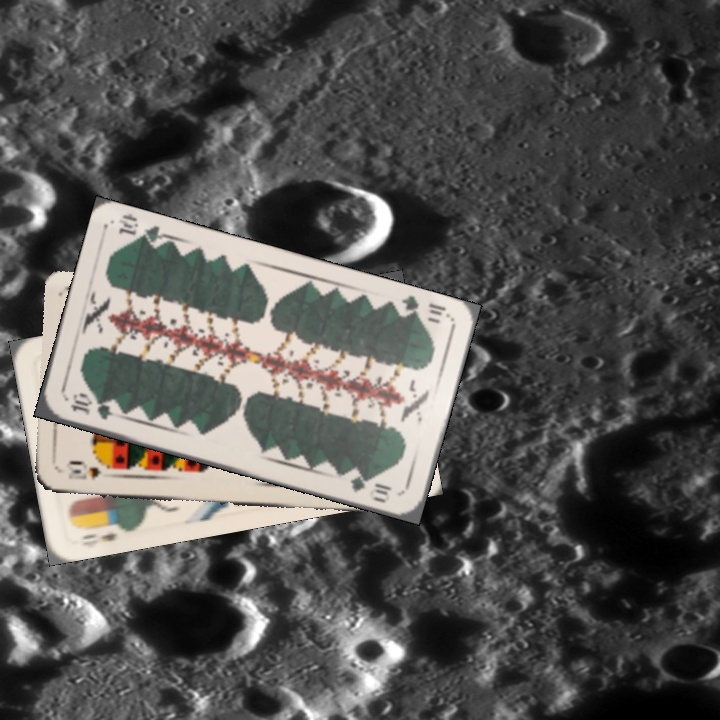EO: (71, 519, 128, 544)
G10: (391, 292, 451, 324), (66, 390, 122, 423)
S10: (64, 464, 104, 483)
